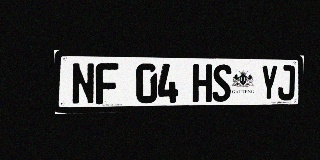0: (136, 63, 157, 103)
4: (158, 64, 178, 103)
F: (96, 63, 118, 104)
H: (192, 64, 212, 102)
J: (278, 65, 295, 101)
N: (71, 63, 95, 105)
S: (212, 64, 231, 102)
Y: (260, 65, 278, 101)
